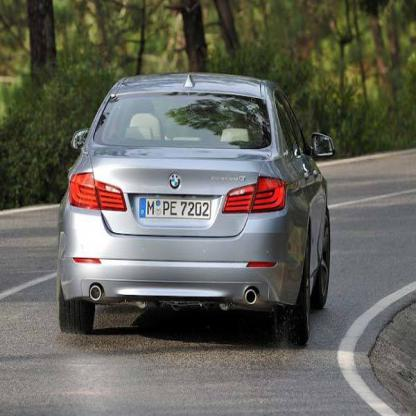Vehicle: (55, 70, 340, 352)
